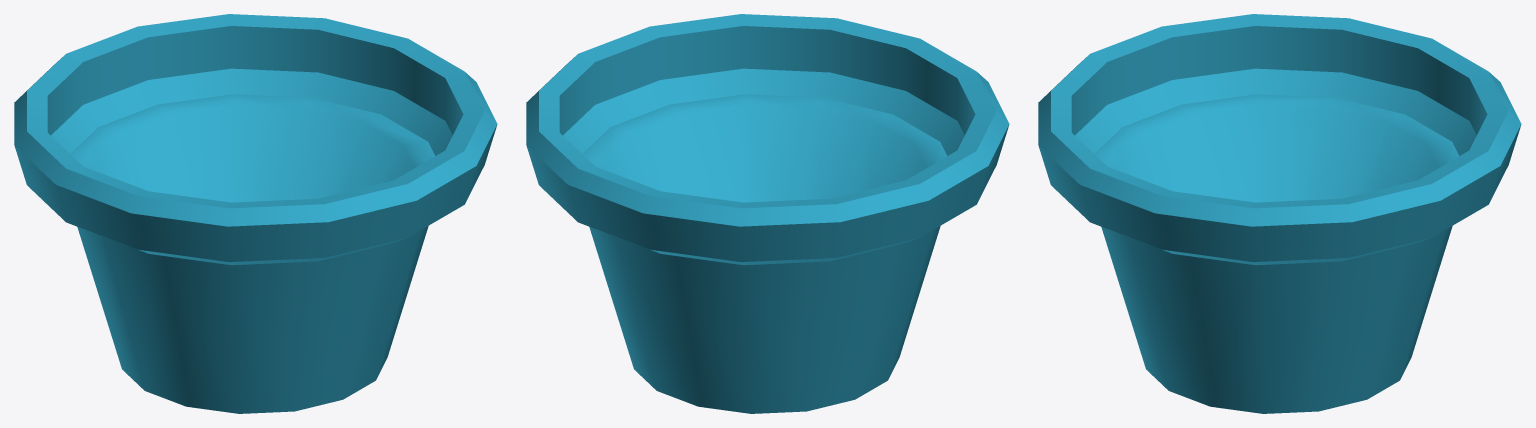
Rendered from Bloempot.fbx.
3 views of the same model, side by side, from view 1: azimuth 30°, elevation 25°; view 2: azimuth 150°, elevation 25°; view 3: azimuth 270°, elevation 25° (orthographic).
Visible parts, largest first — view 1: Flower_Pot.003; view 2: Flower_Pot.003; view 3: Flower_Pot.003.
Boxes of the visible parts, x1,y1,x2,y2 form: Flower_Pot.003: (14, 14, 497, 413); Flower_Pot.003: (526, 14, 1009, 413); Flower_Pot.003: (1038, 14, 1521, 413).
Bounding box in the file's own units: 59.04 × 33.03 × 58.71.
